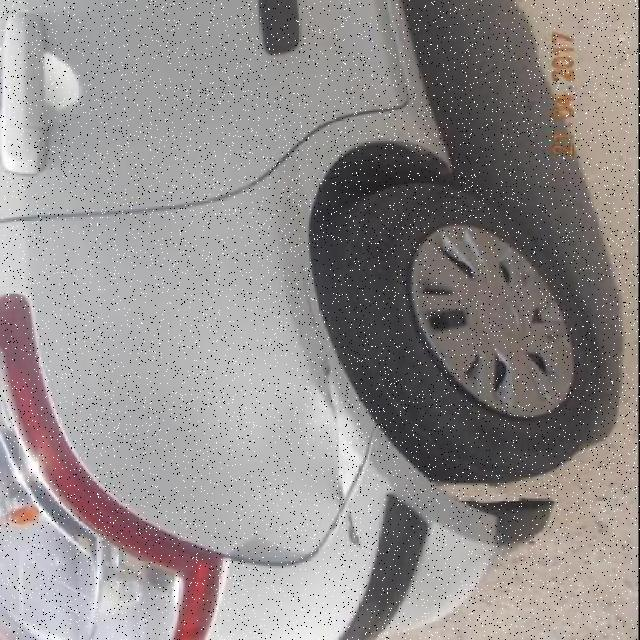damage: (275, 369, 396, 510), (321, 355, 368, 548), (292, 163, 320, 329)
